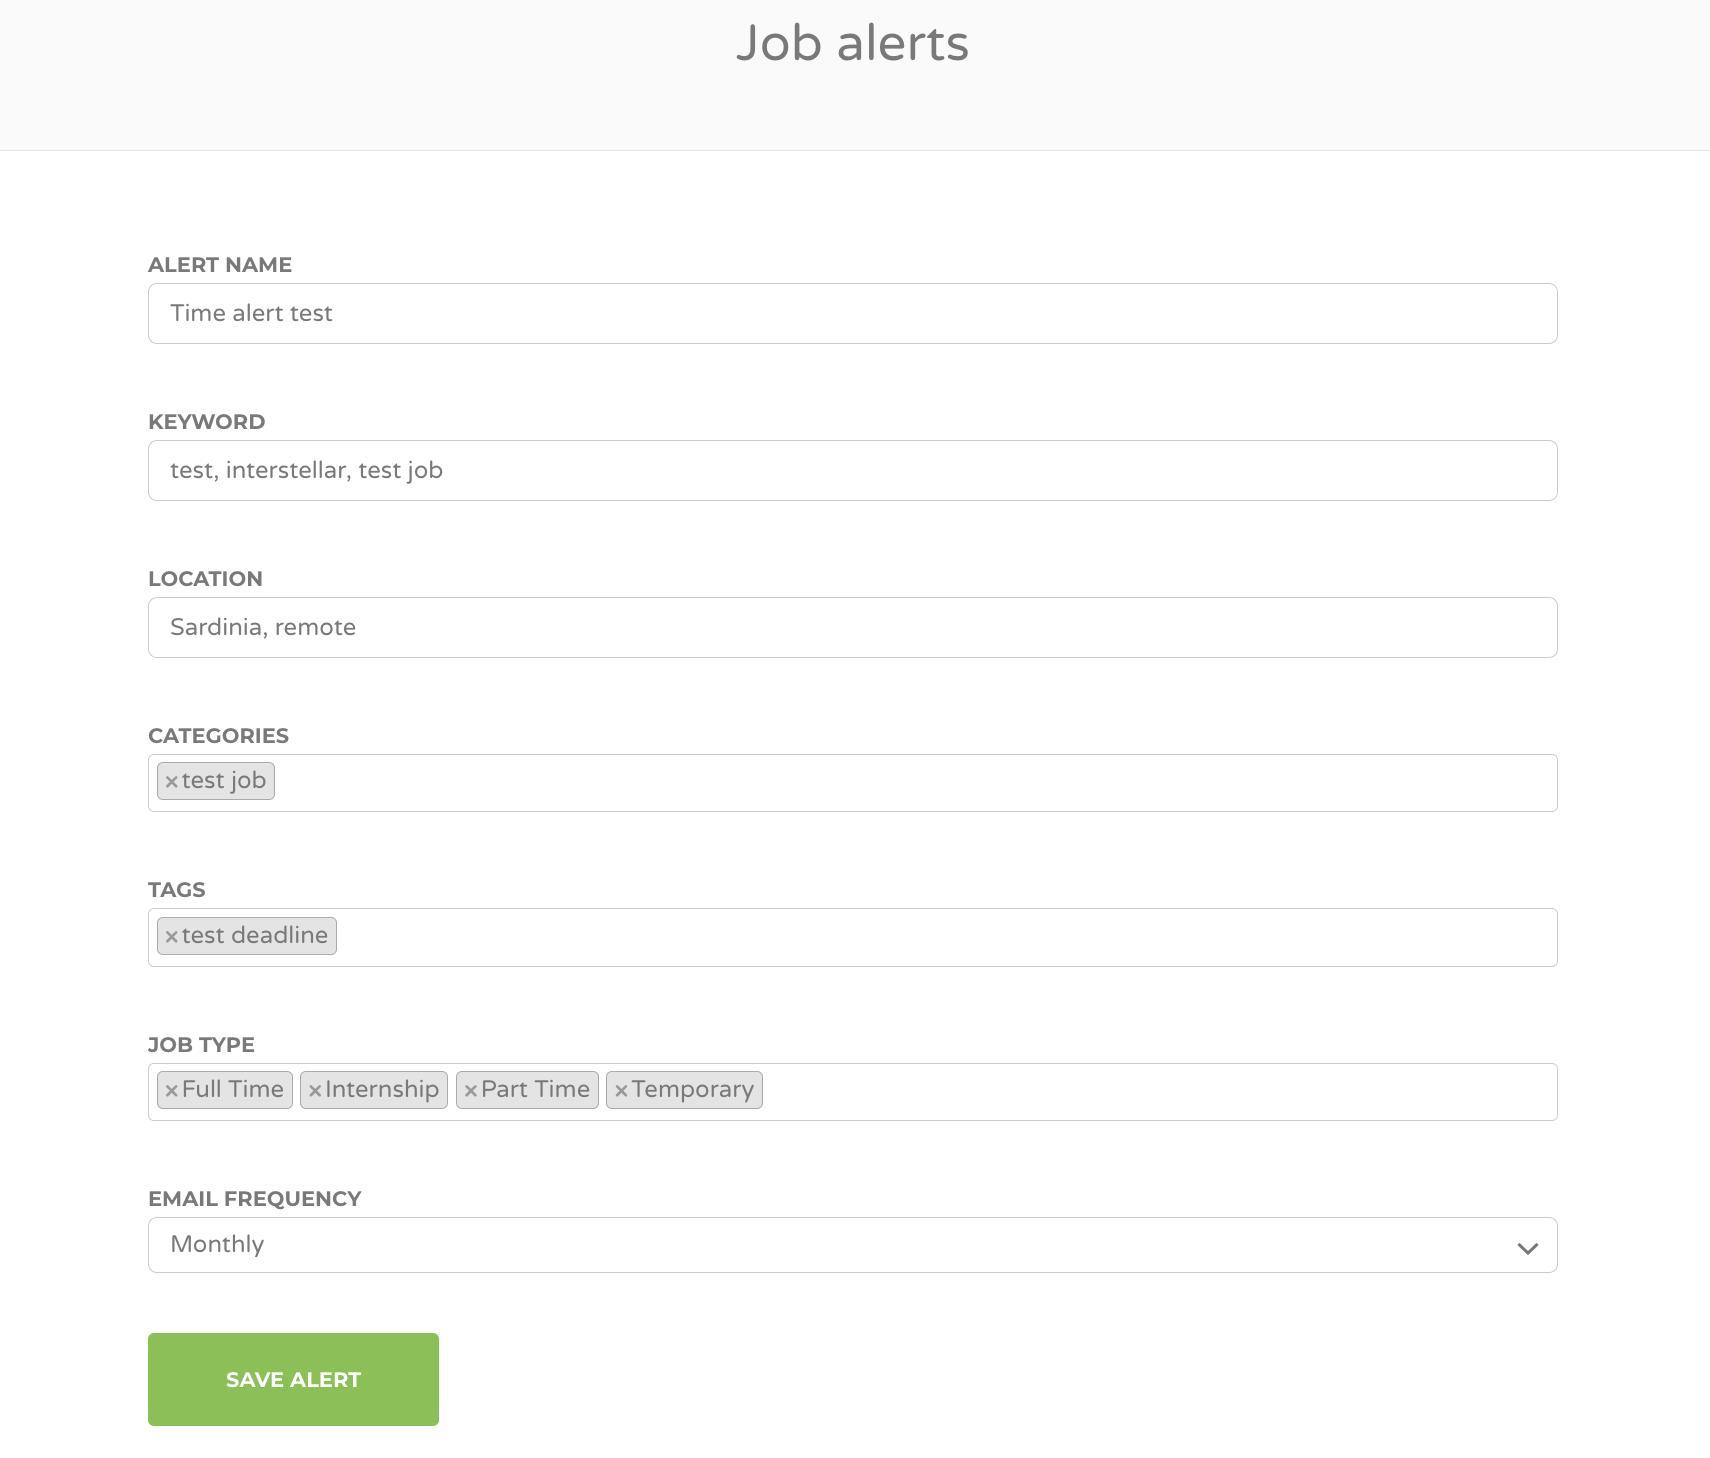button: (149, 1336, 437, 1423)
dropdown: (146, 1221, 1562, 1271)
input: (149, 596, 1562, 662), (148, 282, 1562, 347), (149, 441, 1562, 505), (149, 1065, 1558, 1127), (146, 756, 1558, 817), (148, 913, 1561, 971)
label: (146, 1186, 369, 1209), (142, 246, 297, 278), (142, 716, 299, 746), (148, 560, 268, 596), (145, 402, 272, 434), (140, 1031, 265, 1062), (135, 878, 217, 903)
